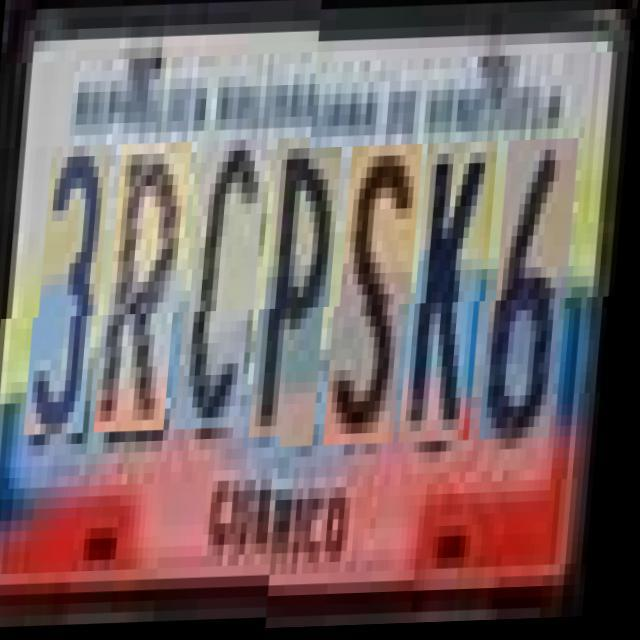3: (36, 156, 113, 446)
6: (492, 143, 581, 444)
C: (186, 152, 270, 442)
K: (412, 145, 501, 446)
P: (260, 150, 344, 450)
R: (106, 154, 194, 444)
S: (336, 148, 425, 448)
